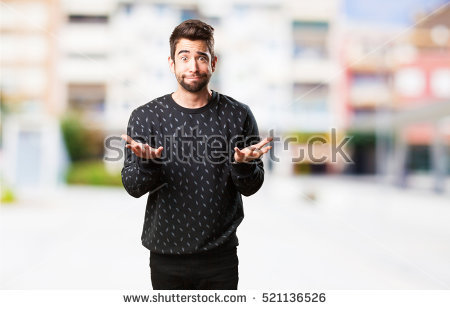confused: (171, 42, 215, 92)
